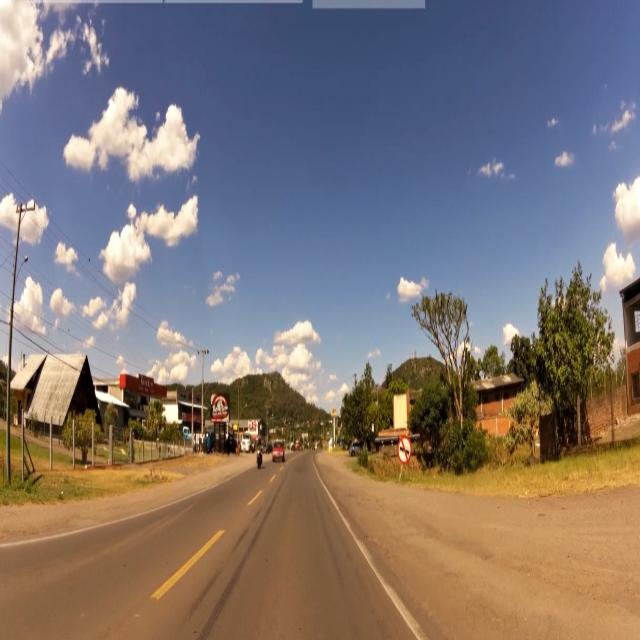R-7: (399, 435, 411, 466)
